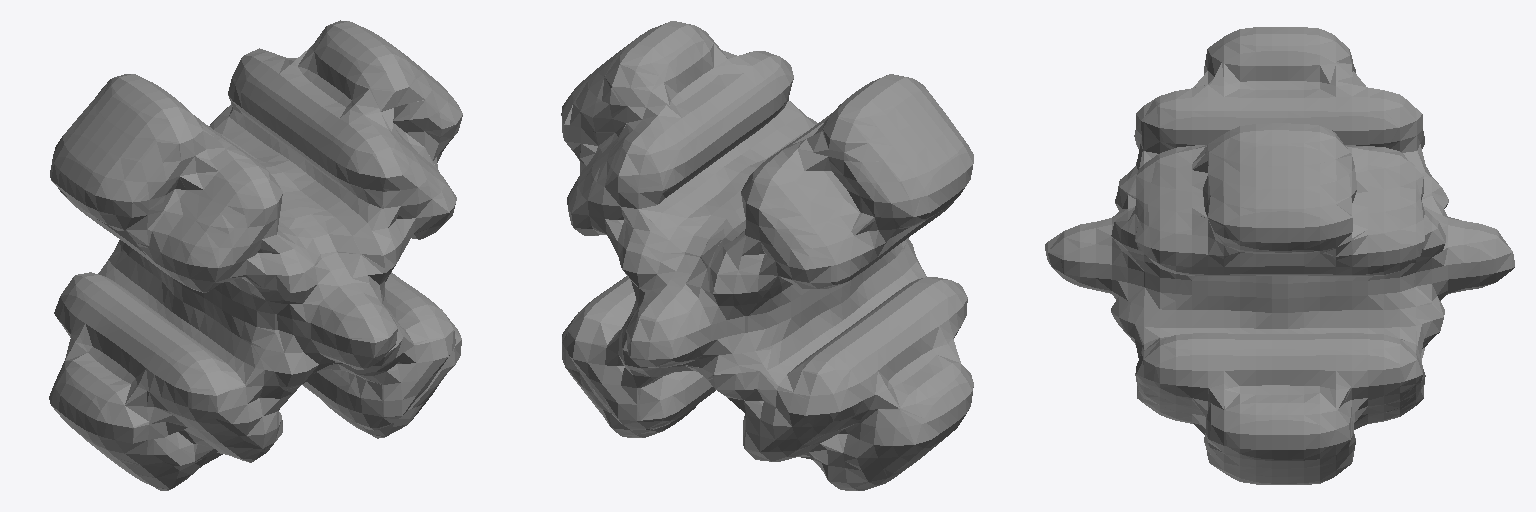
URDF robot description (cube.urdf):
<?xml version="0.0" ?> 
<robot name="cube.urdf"> 
<link name="legobrick"> 
<contact> 
<lateral_friction value="5.0"/> 
<rolling_friction value="0.0"/> 
<contact_cfm value="0.0"/> 
<contact_erp value="1.0"/> 
</contact> 
<inertial> 
<origin rpy="0 0 0" xyz="0.0 0.0 0.0"/> 
<mass value=".01"/> 
<inertia ixx="1" ixy="0" ixz="0" iyy="1" iyz="0" izz="1"/> 
</inertial> 
<visual> 
<origin rpy="1.570796 0 0" xyz="-0.03951378667968076 0.039385605755051845 -0.03949719561122513"/> 
<geometry> 
<mesh filename="F25_0.obj" scale="0.0006678608169933337 0.0006678608169933337 0.0006678608169933337"/> 
</geometry> 
<material name="yellow"> 
<color rgba="0.6 0.6 0.6 1"/> 
</material> 
</visual> 
<collision> 
<origin rpy="1.570796 0 0" xyz="-0.03951378667968076 0.039385605755051845 -0.03949719561122513"/> 
<geometry> 
<mesh filename="F25_0.obj" scale="0.0006678608169933337 0.0006678608169933337 0.0006678608169933337"/> 
</geometry> 
</collision> 
</link> 
</robot>

--- What the picture shows (computed from the rendered views, not written in the file) ---
Views: 3 orthographic renders of the robot side by side, from view 1: azimuth 30°, elevation 25°; view 2: azimuth 150°, elevation 25°; view 3: azimuth 270°, elevation 25°.
Robot: cube.urdf — 1 links, 0 joints (none); root link legobrick; default pose: every joint at zero.
Visible links, largest first — view 1: legobrick; view 2: legobrick; view 3: legobrick.
Link boxes in pixels (x1,y1,x2,y2): legobrick: (49,20,462,490); legobrick: (561,21,973,490); legobrick: (1045,27,1514,484).
Size in the robot's own frame: 0.056 by 0.0672 by 0.0559 metres.
Meshes: 1 distinct files referenced, 1 mesh visuals loaded (1 OBJ).
